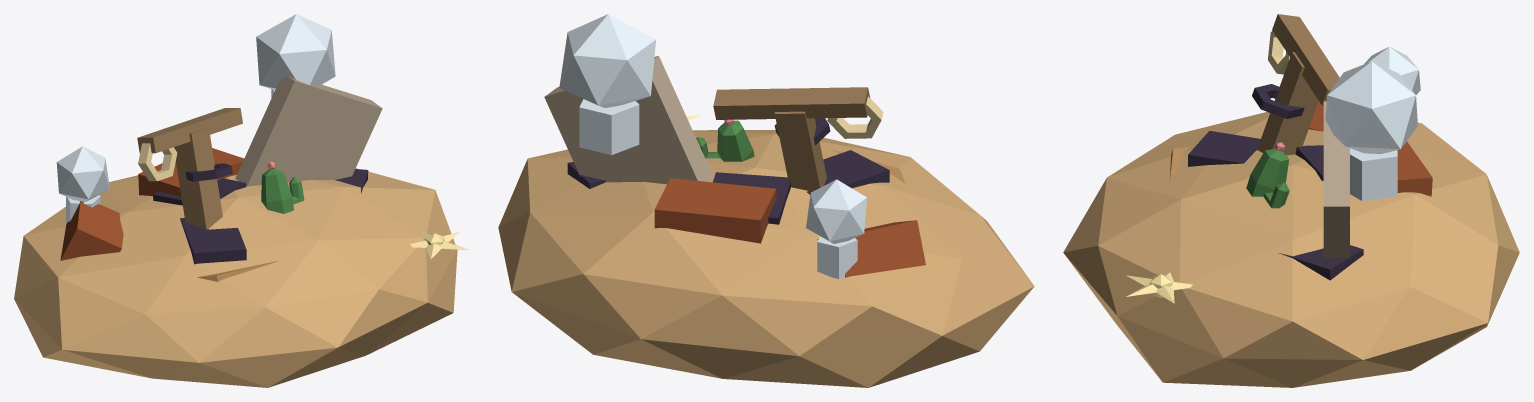
Rendered from wildwest-ruin.glb.
3 views of the same model, side by side, from view 1: azimuth 30°, elevation 25°; view 2: azimuth 150°, elevation 25°; view 3: azimuth 270°, elevation 25° (orthographic). The views are drawn at different scales.
Parts seen in each view (by area): view 1: wildwest-ruin; view 2: wildwest-ruin; view 3: wildwest-ruin.
Part boxes in pixels (x1,y1,x2,y2): wildwest-ruin: [14, 14, 469, 387]; wildwest-ruin: [498, 14, 1034, 387]; wildwest-ruin: [1063, 14, 1519, 387].
Size of the model in its own units: 1.22 by 0.7194 by 1.04.
